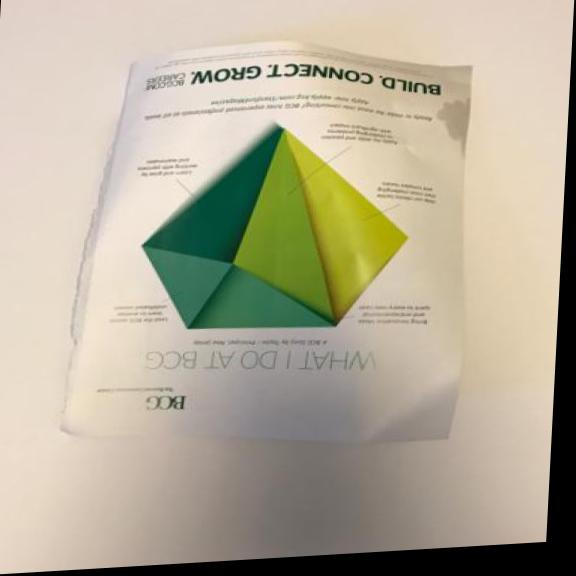Kertas: (55, 33, 488, 449)
